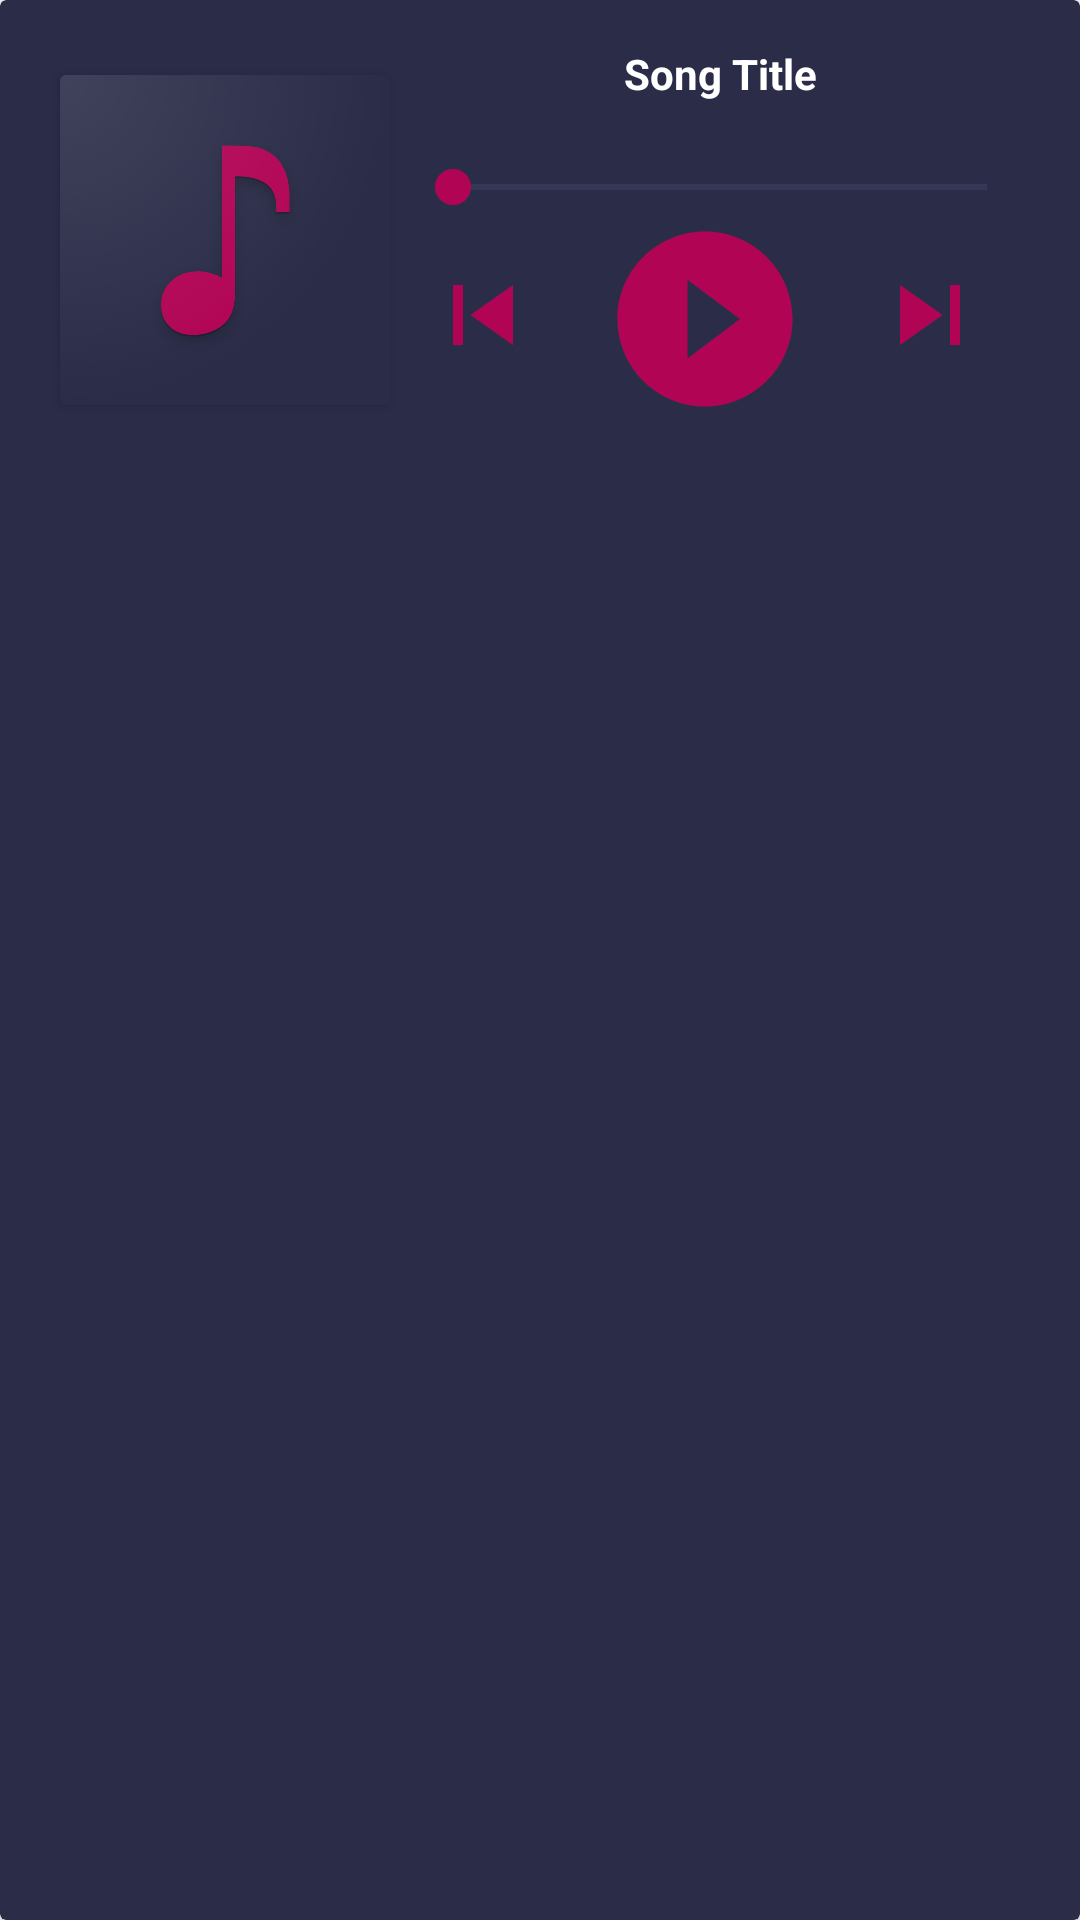

Point at icon controls on the screen. Image size 1080*1920, points as [x,y].
music: [225,240]
play circle: [705,319]
skip next: [930,315]
skip previous: [483,315]
